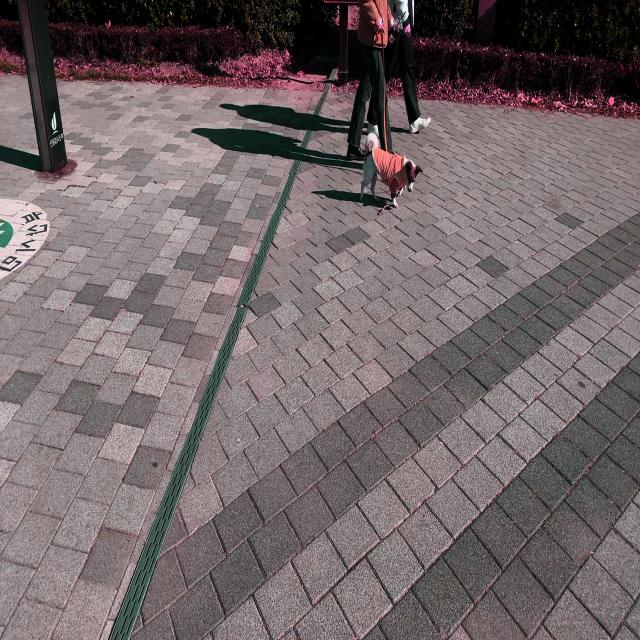Leashed_Dog: (359, 25, 423, 208)
